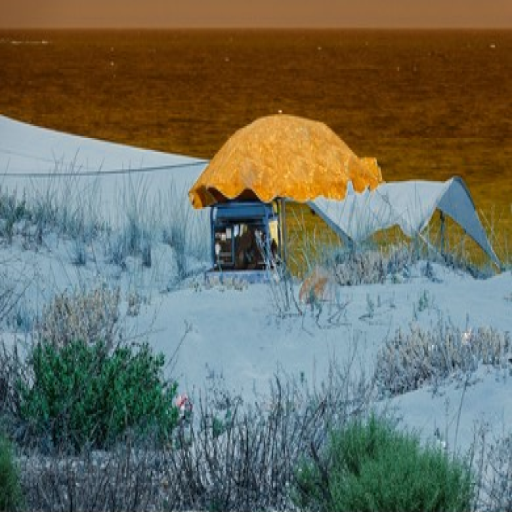portable_generator: (209, 201, 284, 281)
